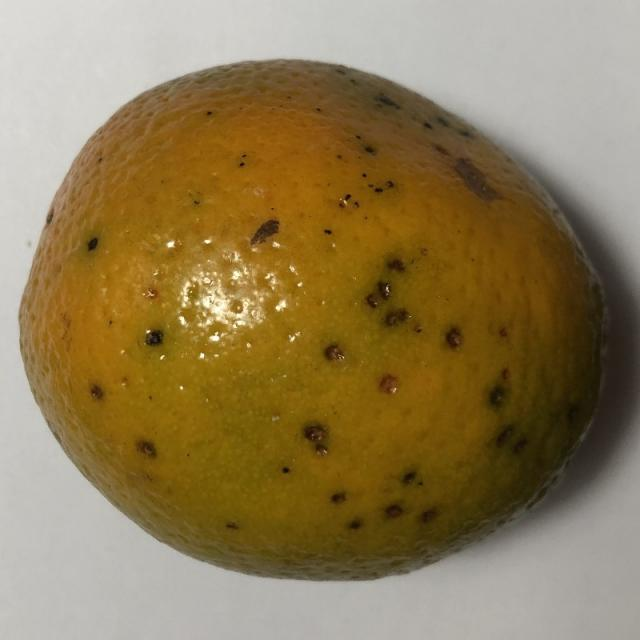blackspot: (12, 54, 631, 607)
